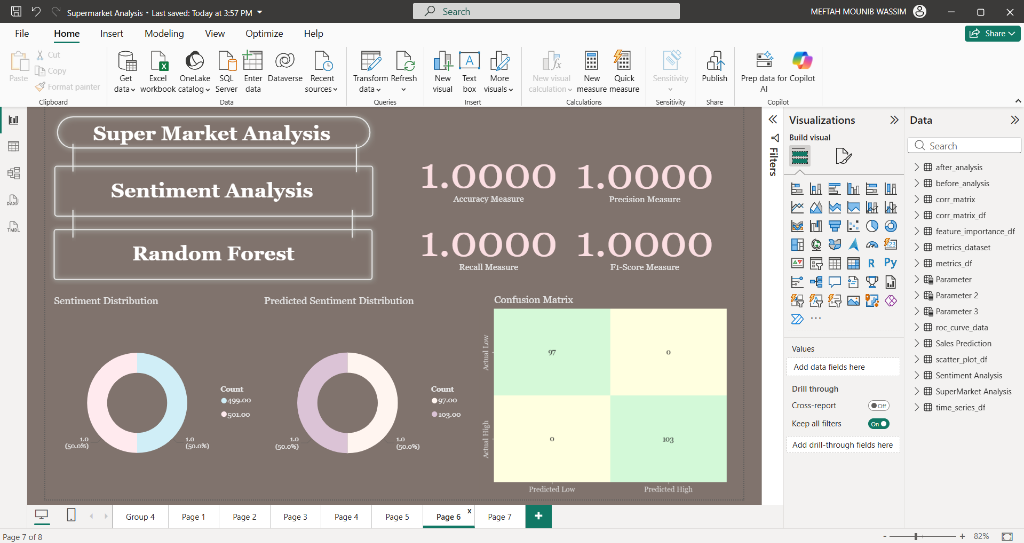

Layout of this report page (visuals, bound fields, positions):
{"tool":"powerbi","page":{"name":"Page 6","canvas":[1280,720],"ordinal":6},"visuals":[{"type":"shape","box":[7,98.1,602.9,111.4],"z":0,"group":"g4"},{"type":"donutChart","title":"Sentiment Distribution","fields":{"Category":["before_analysis.Count"],"Y":["CountNonNull(before_analysis.Sentiment)"]},"box":[11.4,344.3,380,375.7],"z":0},{"type":"group","id":"g1","title":"Group 3","box":[7,8.1,602.9,201.4],"z":1000},{"type":"card","fields":{"Values":["metrics_df.Accuracy Measure"]},"box":[670,57.1,285.7,128.6],"z":1000,"group":"g3"},{"type":"textbox","box":[26.5,126.2,557.8,56.4],"z":1000,"group":"g4"},{"type":"shape","box":[5.7,215.7,602.9,111.4],"z":1000,"group":"g2"},{"type":"textbox","box":[28.6,242.8,557.1,55.7],"z":2000,"group":"g2"},{"type":"textbox","box":[810,338.6,171.4,32.9],"z":2000},{"type":"donutChart","title":"Predicted Sentiment Distribution","fields":{"Category":["after_analysis.Count"],"Y":["CountNonNull(after_analysis.Sentiment)"]},"box":[395.7,344.3,380,375.7],"z":3000},{"type":"image","box":[791.4,360,464.3,360],"z":4000},{"type":"shape","box":[41.4,181.4,14.3,67.1],"z":5000},{"type":"card","fields":{"Values":["metrics_df.Precision Measure"]},"box":[955.7,58.5,285.7,127.1],"z":6000,"group":"g3"},{"type":"shape","box":[554.3,181.4,15.7,67.1],"z":6000},{"type":"shape","box":[11.3,8.1,592.9,77.1],"z":7000,"group":"g1"},{"type":"group","id":"g2","title":"Group 2","box":[5.7,215.7,602.9,111.4],"z":7000},{"type":"textbox","box":[48.4,21,512.9,64.3],"z":8000,"group":"g1"},{"type":"group","id":"g3","title":"Group 4","box":[670,57.1,571.4,250],"z":8000},{"type":"card","fields":{"Values":["metrics_df.Recall Measure"]},"box":[670,187.1,285.7,120],"z":8000,"group":"g3"},{"type":"group","id":"g4","title":"Group 1","box":[7,98.1,602.9,111.4],"z":9000,"group":"g1"},{"type":"shape","box":[41.3,59.5,14.3,67.1],"z":10000,"group":"g1"},{"type":"card","fields":{"Values":["metrics_df.F1-Score Measure"]},"box":[955.7,187.1,285.7,120],"z":10000,"group":"g3"},{"type":"shape","box":[561.3,61,15.7,67.1],"z":11000,"group":"g1"}]}

Visuals, with their boxes on the page's 1280x720 design canvas (x1, y1, x2, y2). These are canvas units, not pixel positions in the 1024x543 screenshot, which may show the page scaled, cropped or inside an application window:
shape: (7,98,610,210)
"Sentiment Distribution" donutChart: (11,344,391,720)
"Group 3" group: (7,8,610,210)
card - metrics_df.Accuracy Measure: (670,57,956,186)
textbox: (26,126,584,183)
shape: (6,216,609,327)
textbox: (29,243,586,298)
textbox: (810,339,981,372)
"Predicted Sentiment Distribution" donutChart: (396,344,776,720)
image: (791,360,1256,720)
shape: (41,181,56,248)
card - metrics_df.Precision Measure: (956,58,1241,186)
shape: (554,181,570,248)
shape: (11,8,604,85)
"Group 2" group: (6,216,609,327)
textbox: (48,21,561,85)
"Group 4" group: (670,57,1241,307)
card - metrics_df.Recall Measure: (670,187,956,307)
"Group 1" group: (7,98,610,210)
shape: (41,60,56,127)
card - metrics_df.F1-Score Measure: (956,187,1241,307)
shape: (561,61,577,128)
